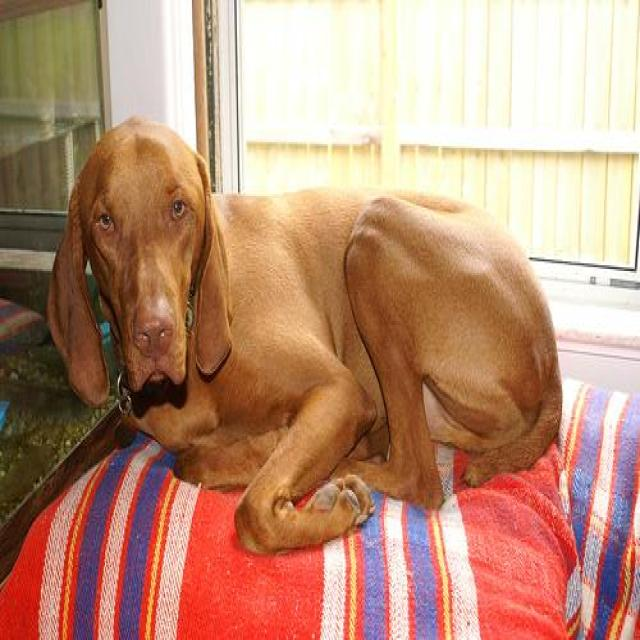vizsla: (48, 112, 564, 561)
